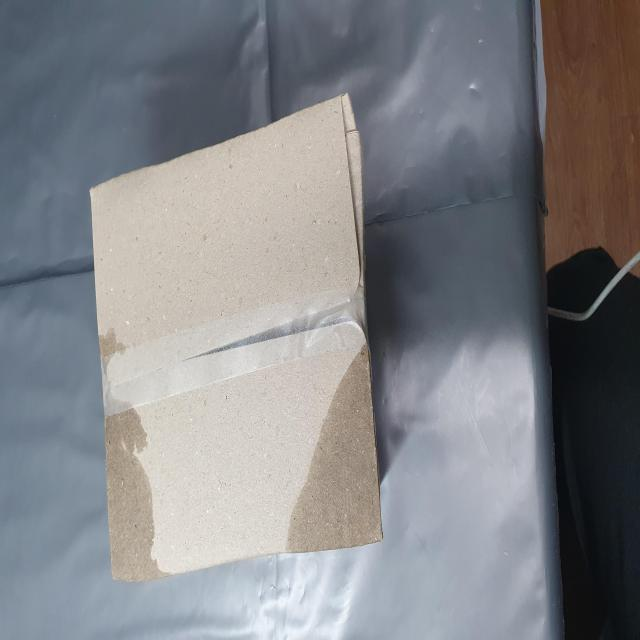wet: (256, 89, 356, 302), (474, 56, 544, 298)
